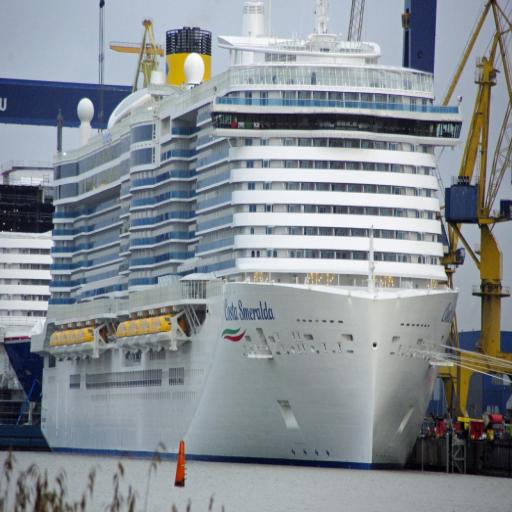cruises: (36, 2, 461, 474)
